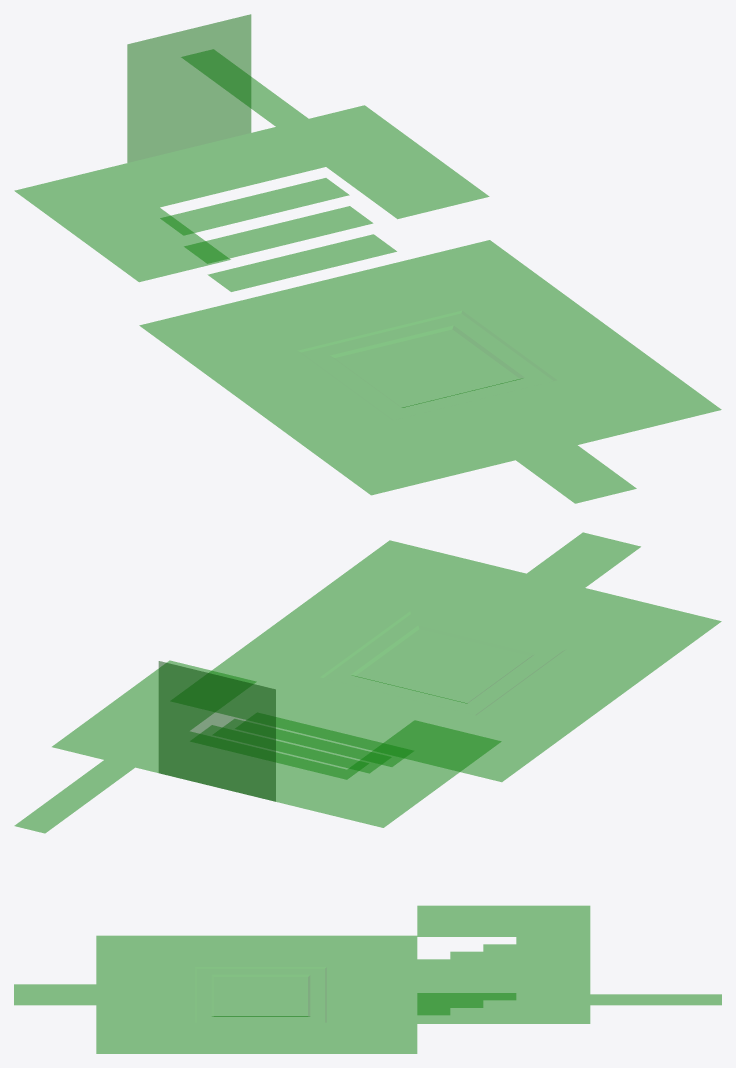
Rendered from hall_floor01.obj.
3 views of the same model, one above another, from view 1: azimuth 30°, elevation 25°; view 2: azimuth 150°, elevation 25°; view 3: azimuth 270°, elevation 25° (orthographic). The views are drawn at different scales.
Size of the model in its own units: 34.02 by 15.29 by 86.
